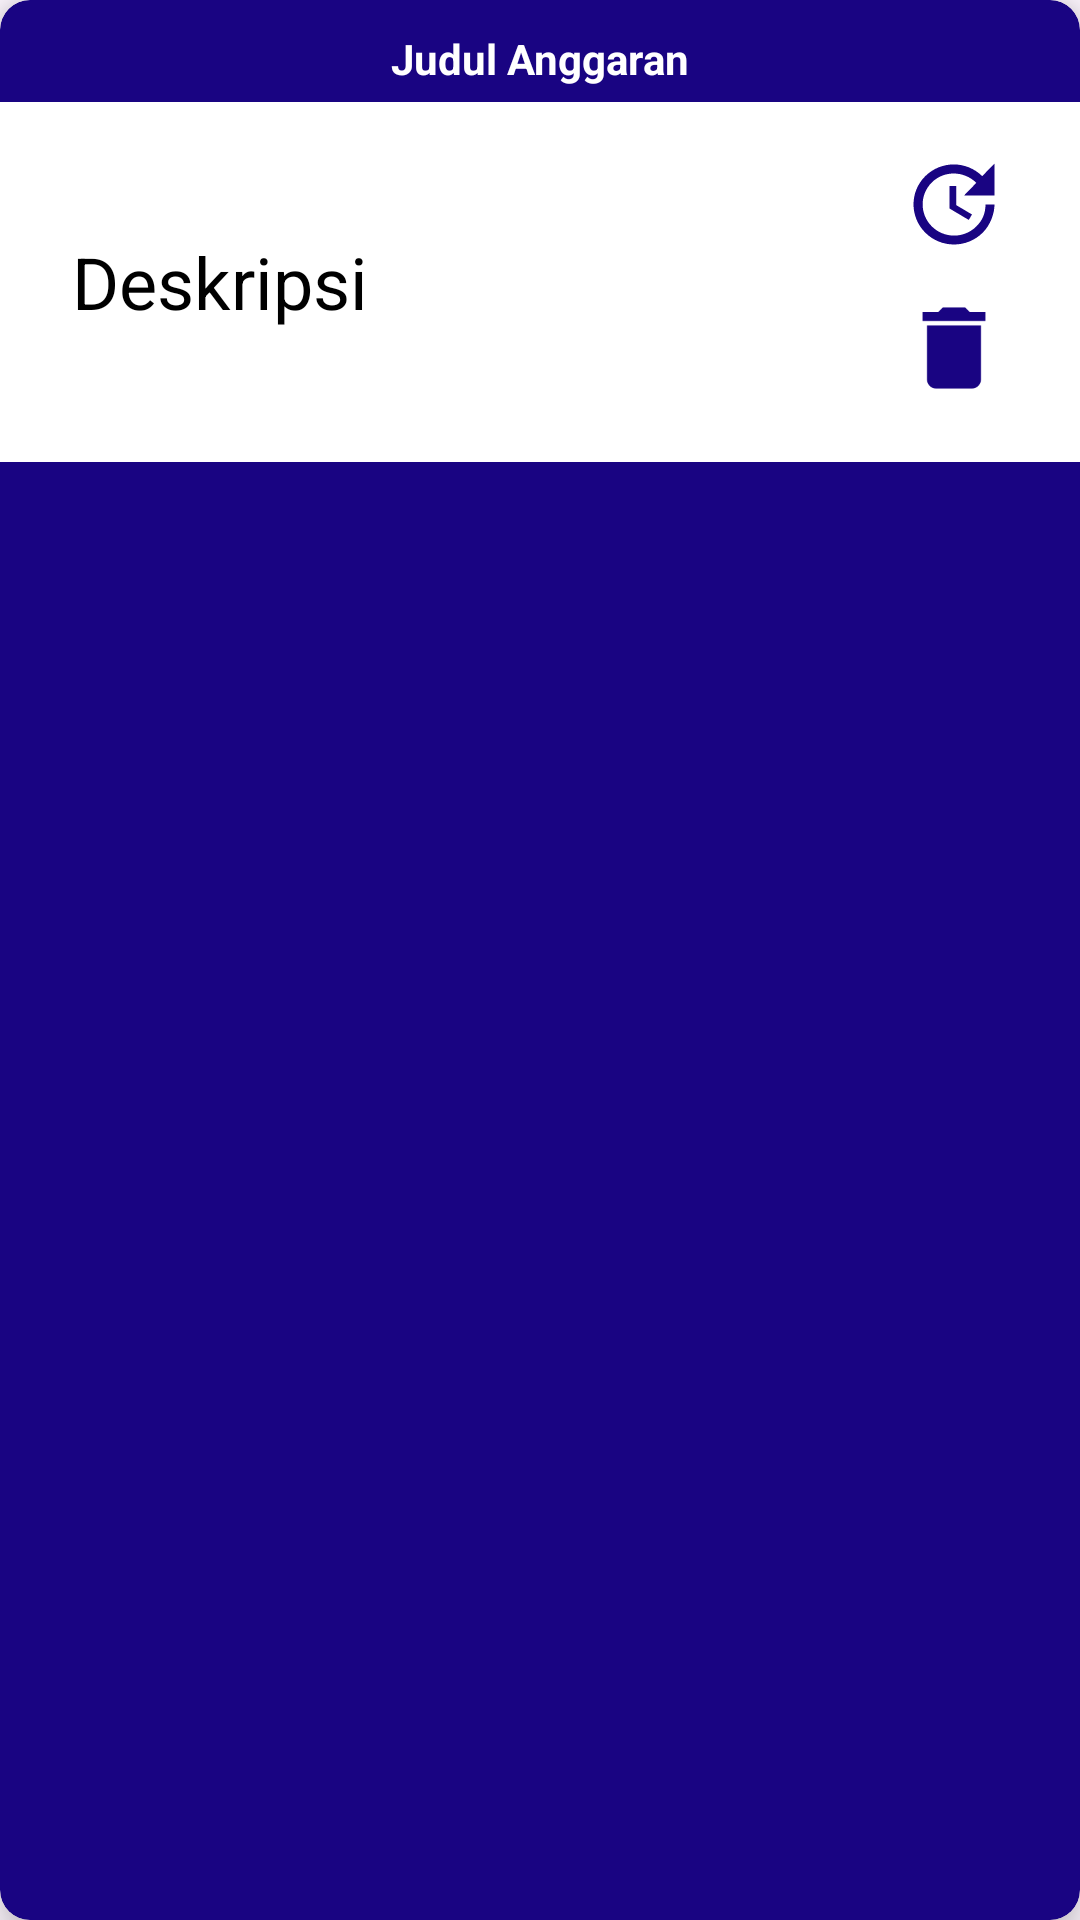

Point at icon controls on the screen. Image size 1080x1920, points as (x=x, y=y).
Delete Button: (x=954, y=348)
Update Button: (x=954, y=204)
